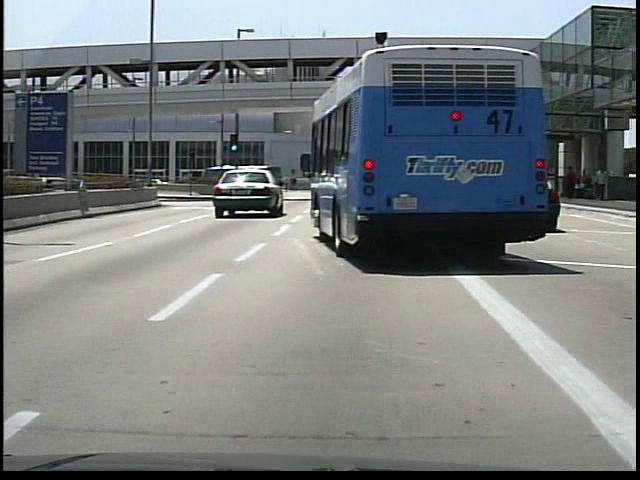person: (593, 166, 612, 199), (564, 164, 577, 200), (579, 168, 592, 201), (289, 174, 300, 193), (281, 173, 292, 191)
